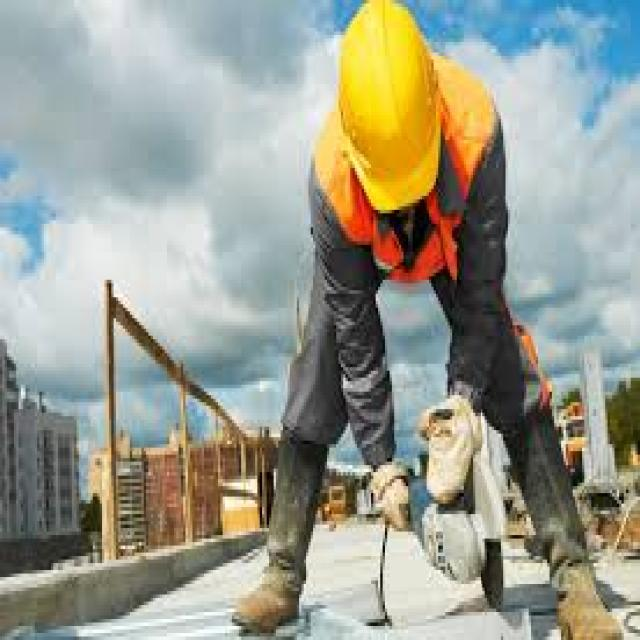Reflective-Jacket: (313, 49, 531, 290)
Safety-Helmet: (311, 7, 450, 231)
